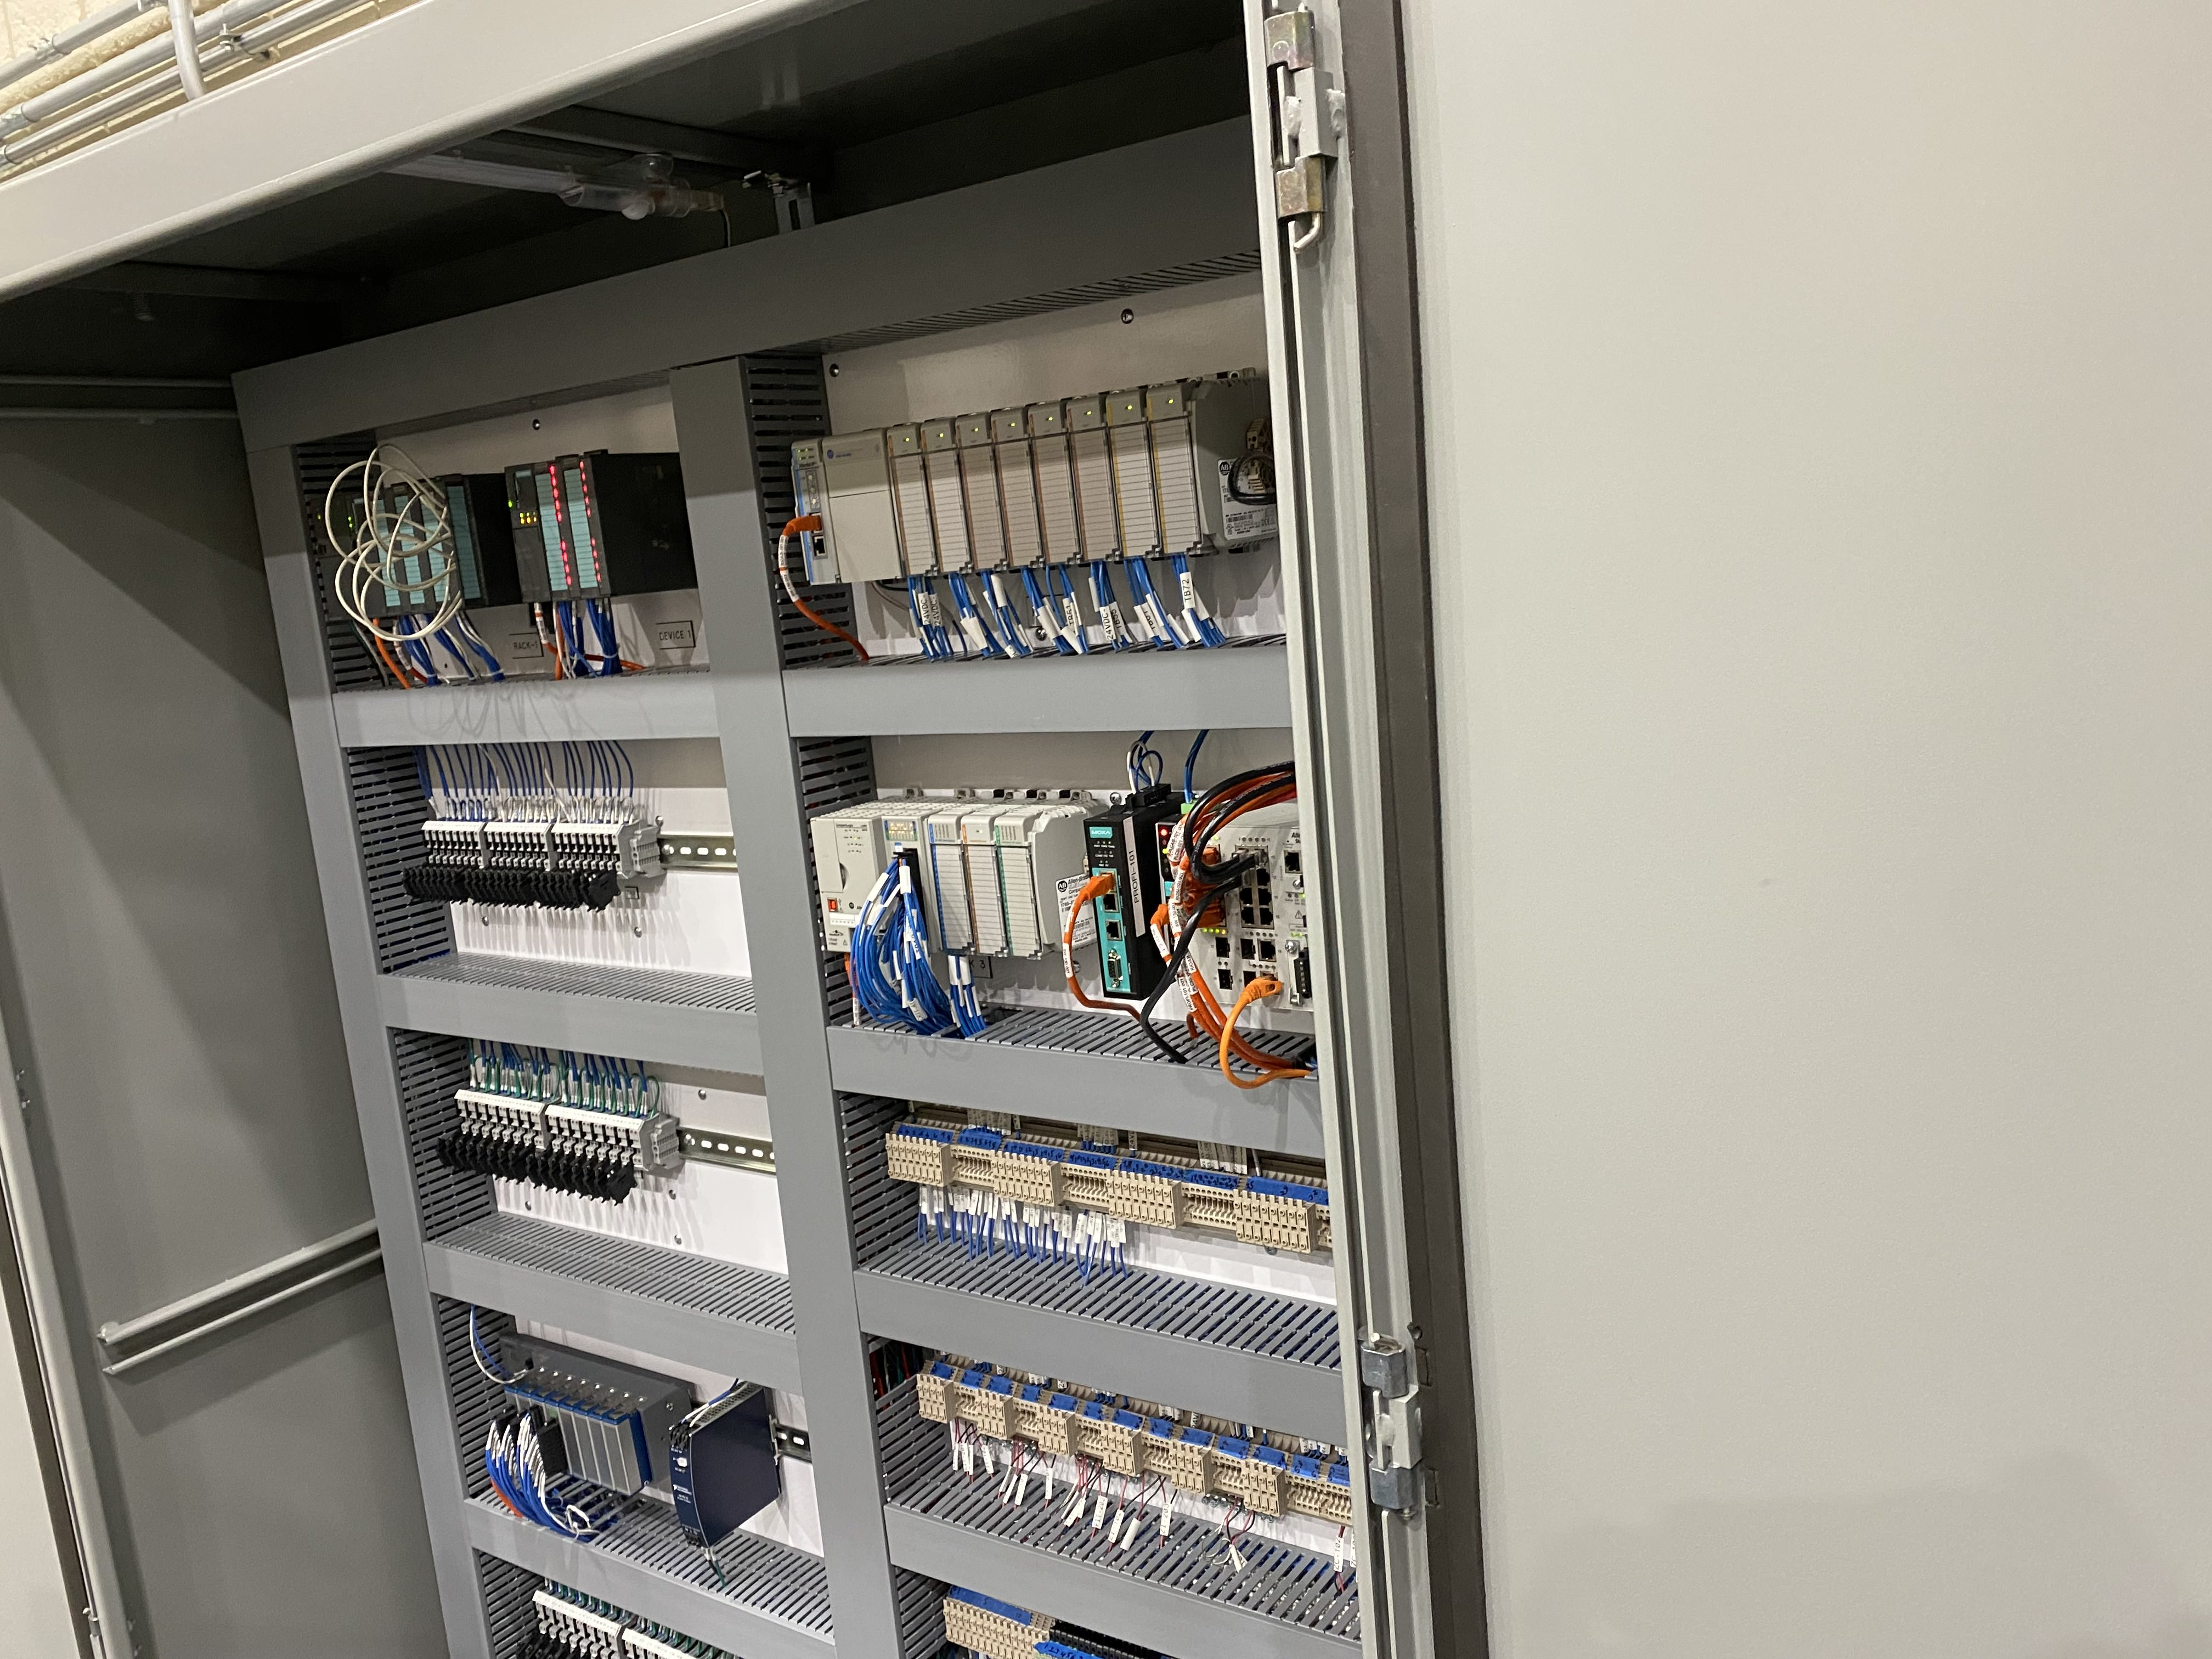AllenBradley: (806, 810, 890, 964)
Siemens: (338, 484, 392, 624)
